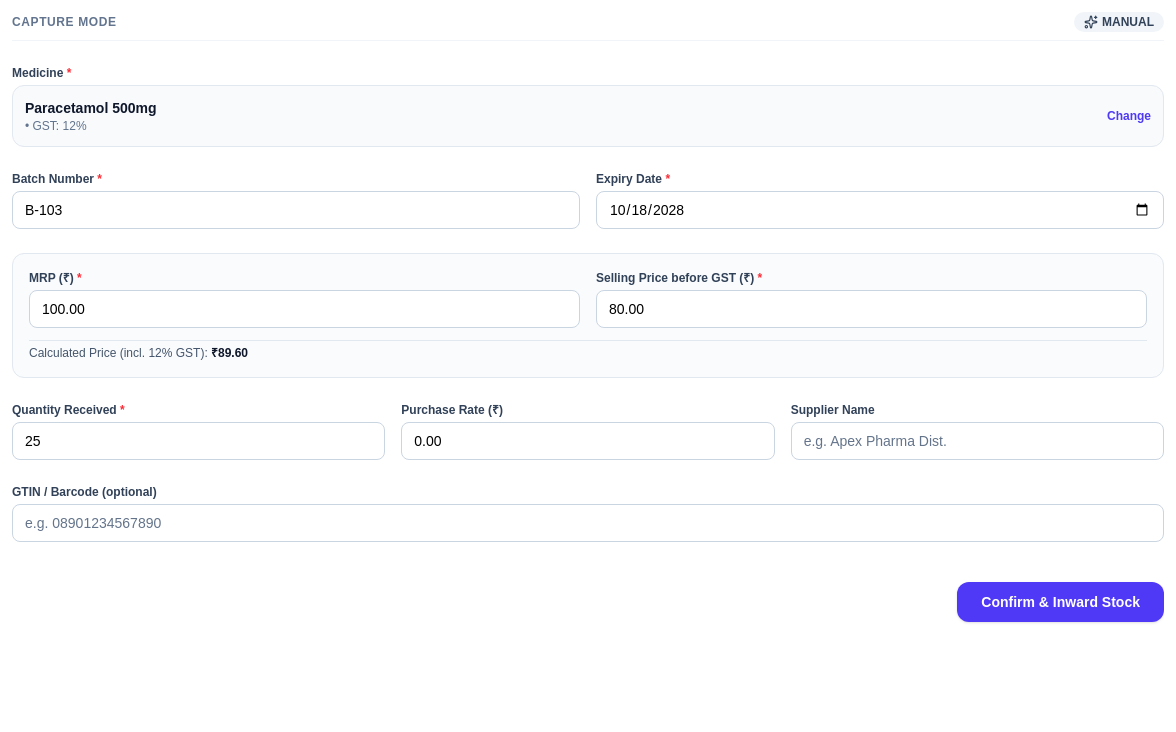
Test: ScanConfirmForm Component › submits valid form data and renders success state
The image size is (1176, 732).
Click the button "Confirm & Inward Stock" at (1061,602), box left=957, top=582, right=1164, bottom=622
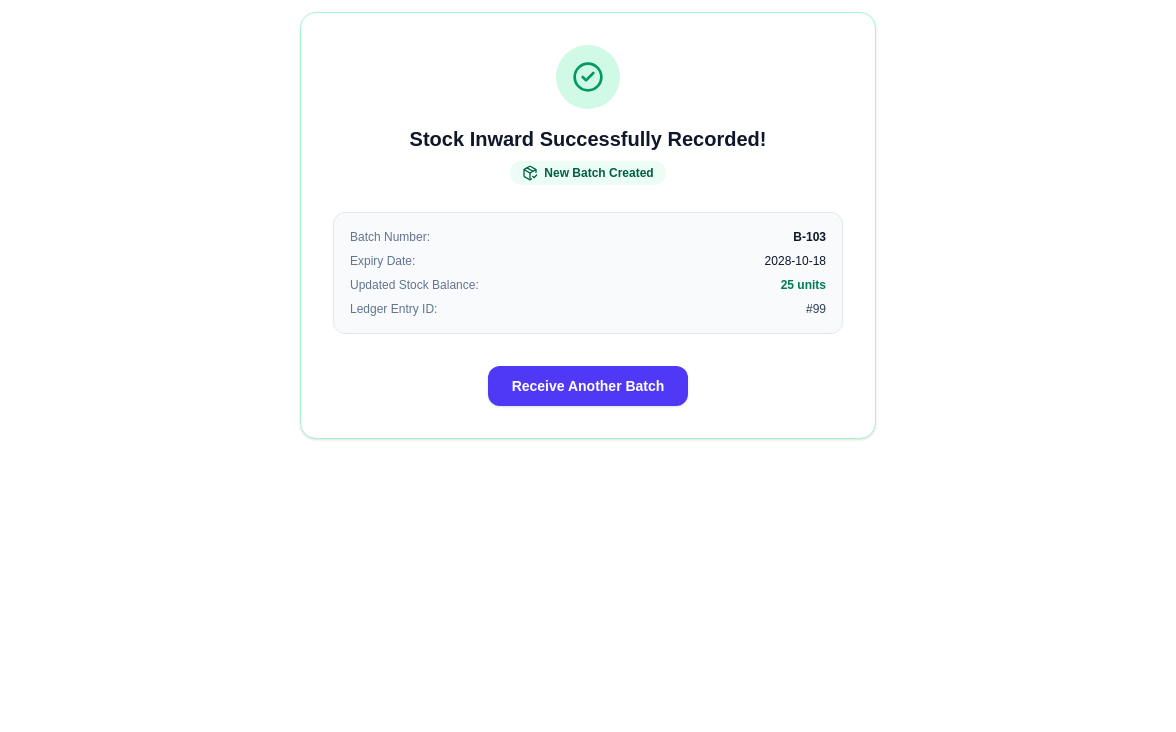
Now the heading "Stock Inward Successfully Recorded!" is shown, box left=410, top=128, right=766, bottom=150
Now the text "25 units" is shown, box left=781, top=277, right=826, bottom=293
